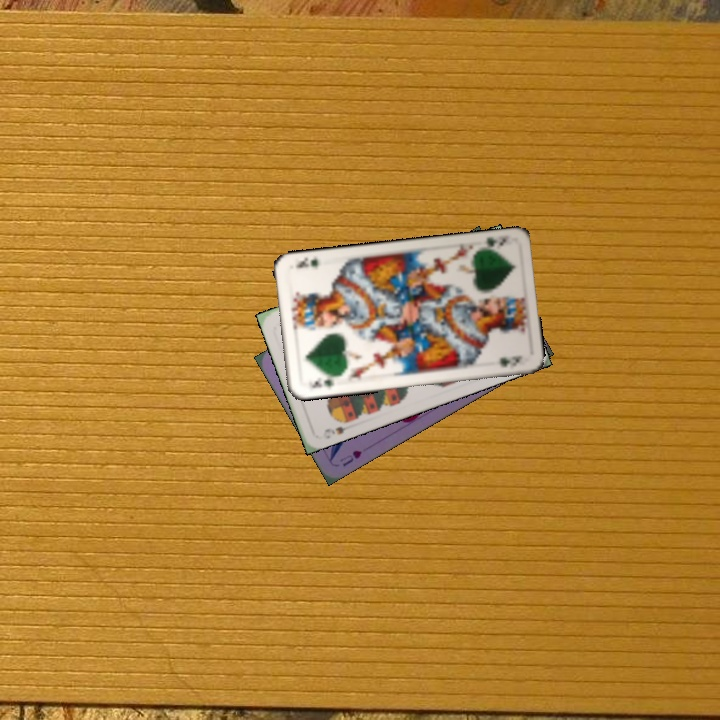GK: (475, 233, 508, 254), (304, 372, 340, 391)
HU: (336, 446, 364, 469)
S9: (321, 416, 356, 441)
